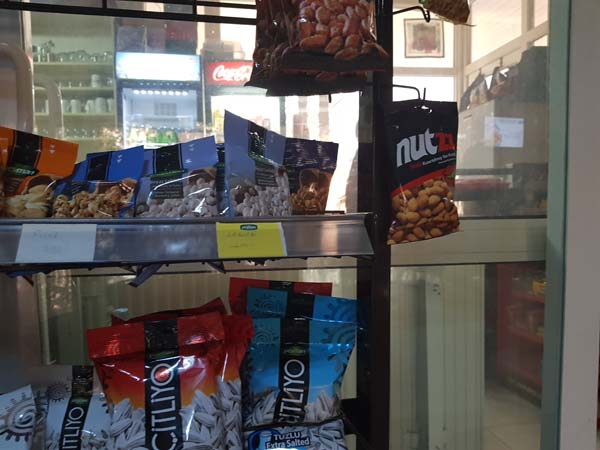citliyorkarasisimsek: (86, 308, 240, 450)
